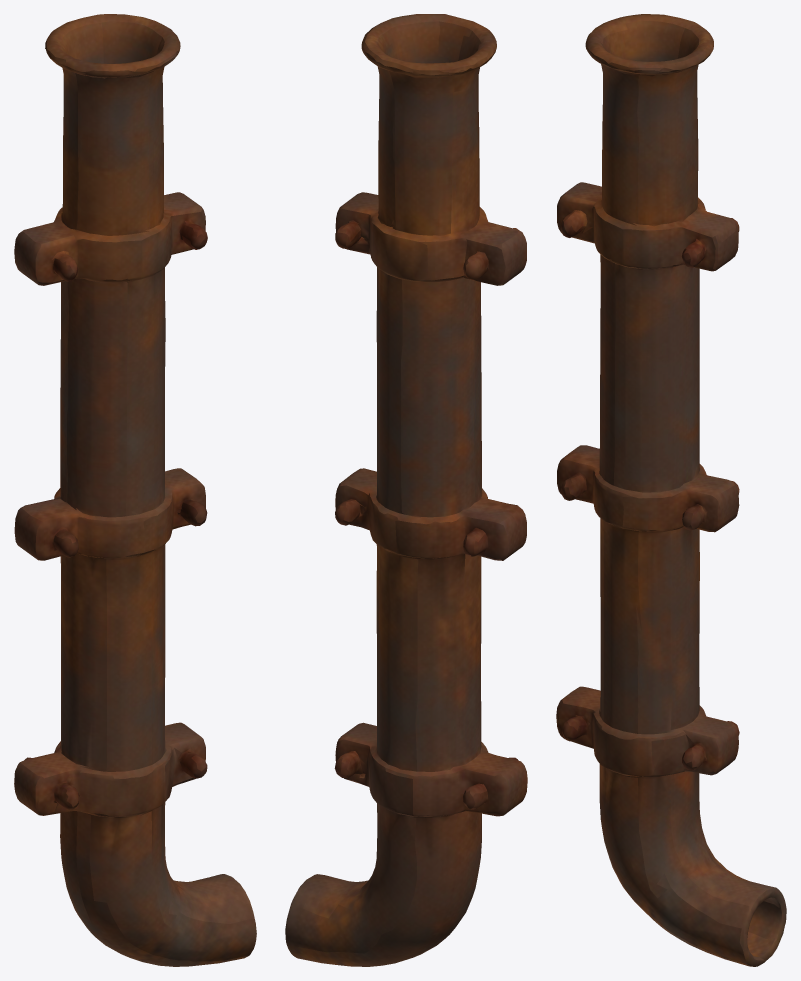
The picture shows the model from 3 angles, left to right: view 1: azimuth 30°, elevation 25°; view 2: azimuth 150°, elevation 25°; view 3: azimuth 330°, elevation 25°; orthographic projection. The views are drawn at different scales.
Visible parts, largest first — view 1: world; view 2: world; view 3: world.
Part boxes in pixels (x1=…): world: x1=14, y1=14, x2=256, y2=966; world: x1=285, y1=14, x2=527, y2=966; world: x1=556, y1=14, x2=786, y2=966.
Bounding box in the file's own units: 0.85 × 3.62 × 0.4572.
1 material, 1 textured.
